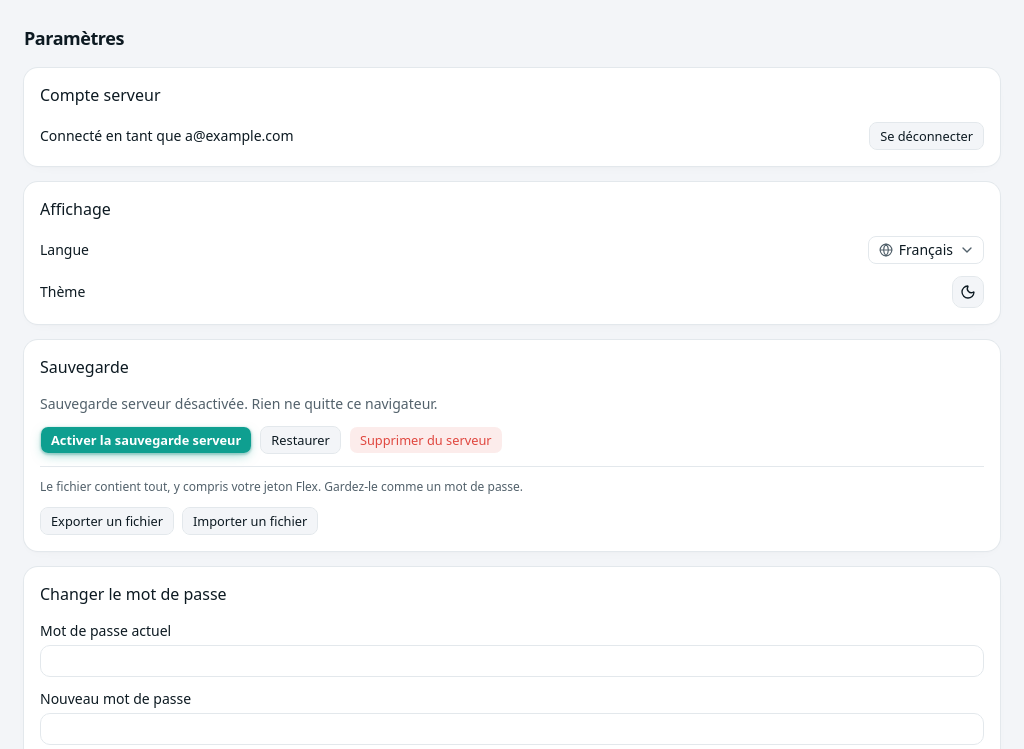
it: SettingsPage › shows the account, the TOTP secret when not yet configured, and lets the password be changed
Expected: the text "Connecté en tant que a@example.com" is shown, [40,126,294,146]
In the password field labelled "Mot de passe actuel": (512, 661) [40,645,984,677], type "old-password"
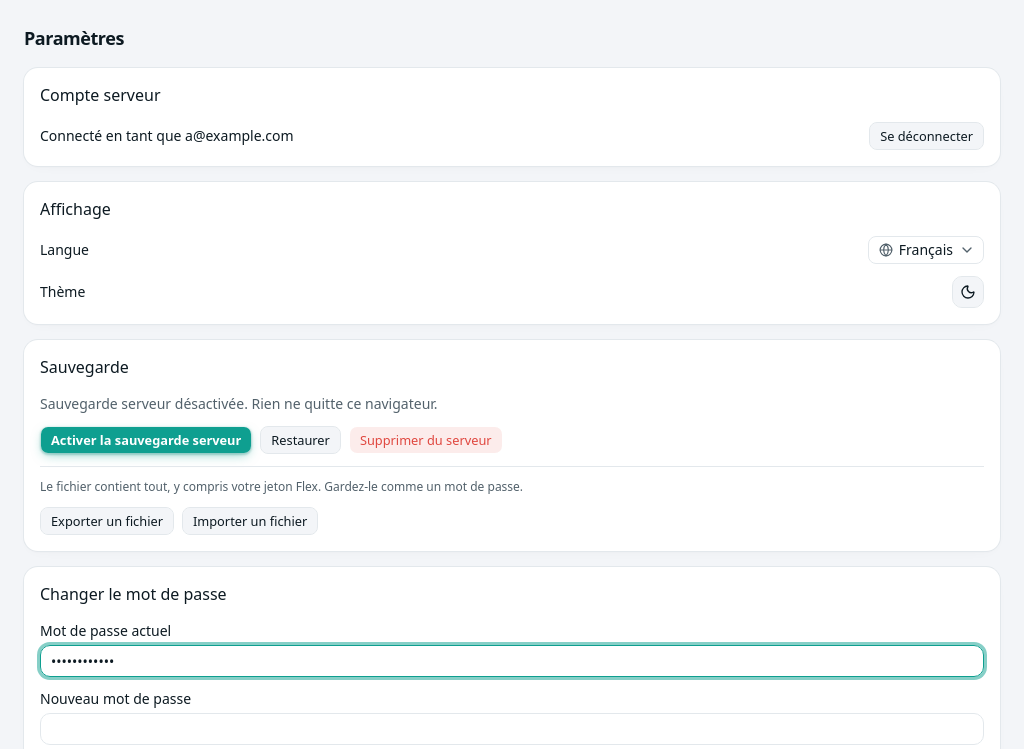
In the password field labelled "Nouveau mot de passe": (512, 729) [40,713,984,745], type "new-password-123"
(page scrolled)
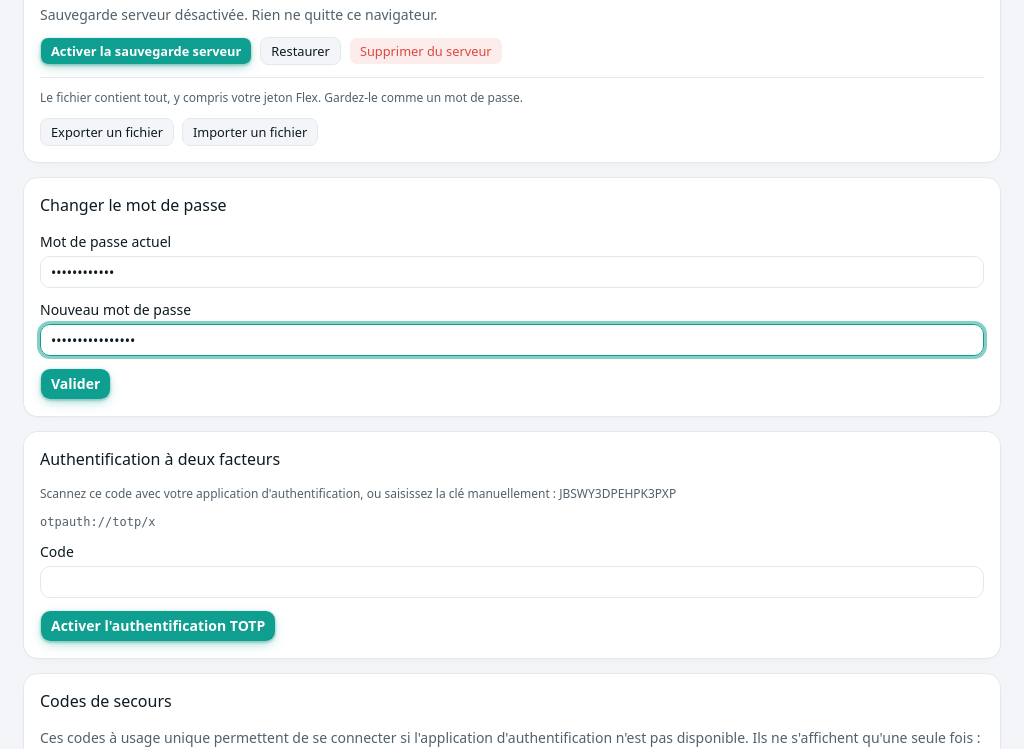
Click the button "Valider": (76, 384) [40,368,111,400]
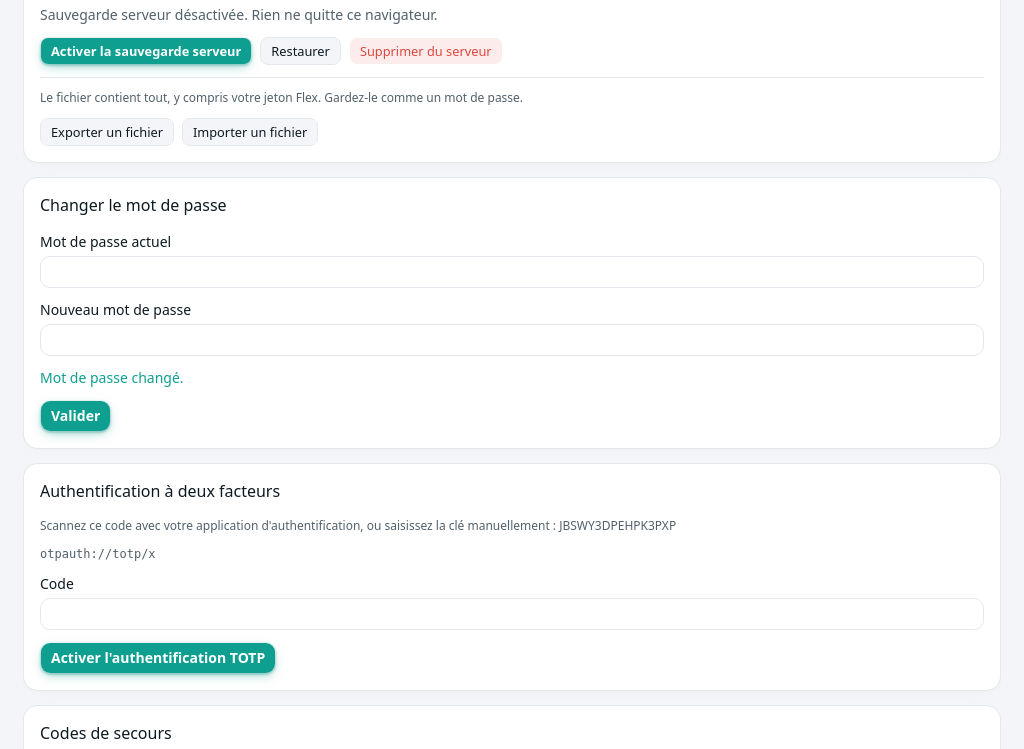
Expected: the text "Mot de passe changé." is shown, [40,368,184,387]
